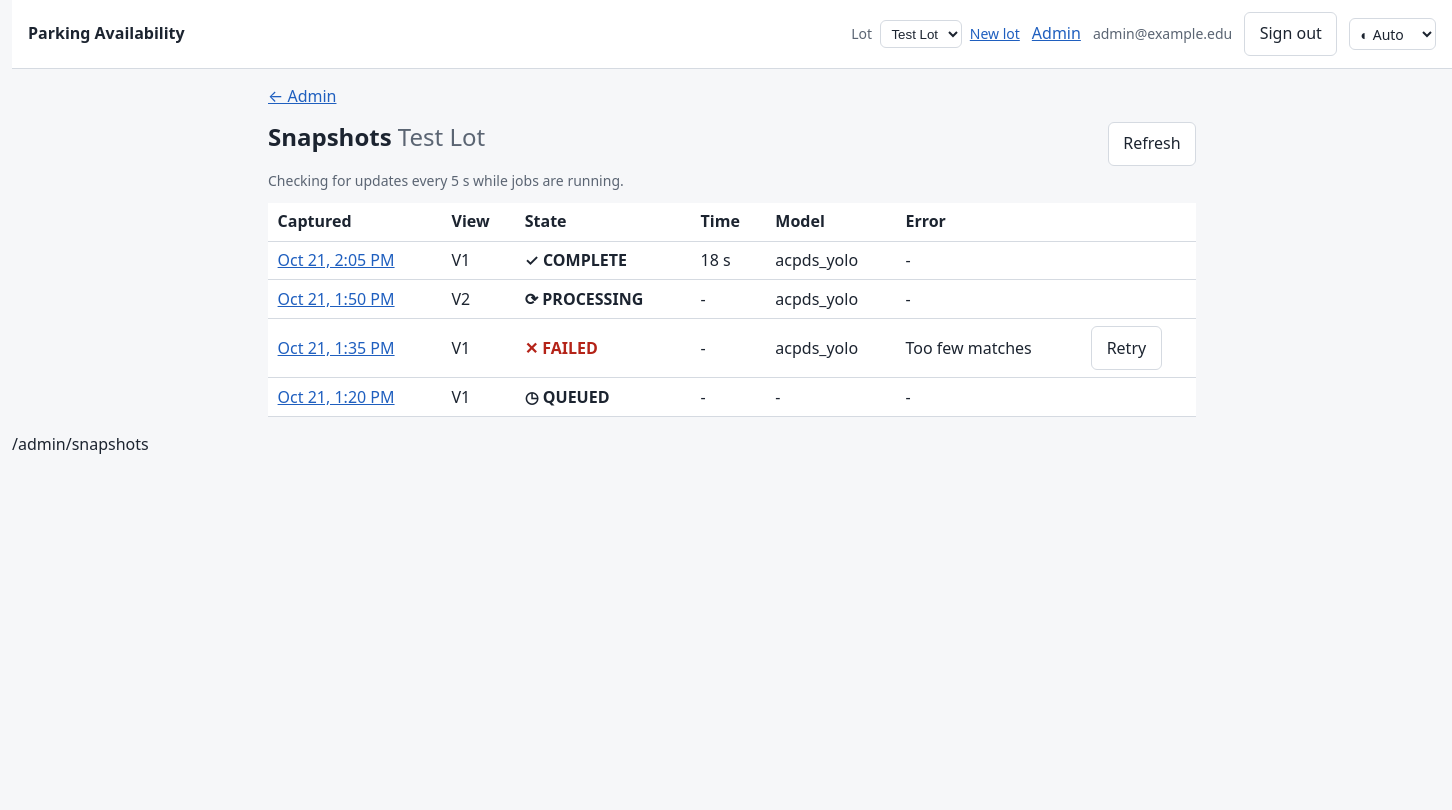
Test: Snapshots page (US-06) › US-06 #6: the detail shows per-space state, confidence, overlap and layout version
Click the row with test id "snapshot-img-1405": point(732, 261) [268,241,1196,280]
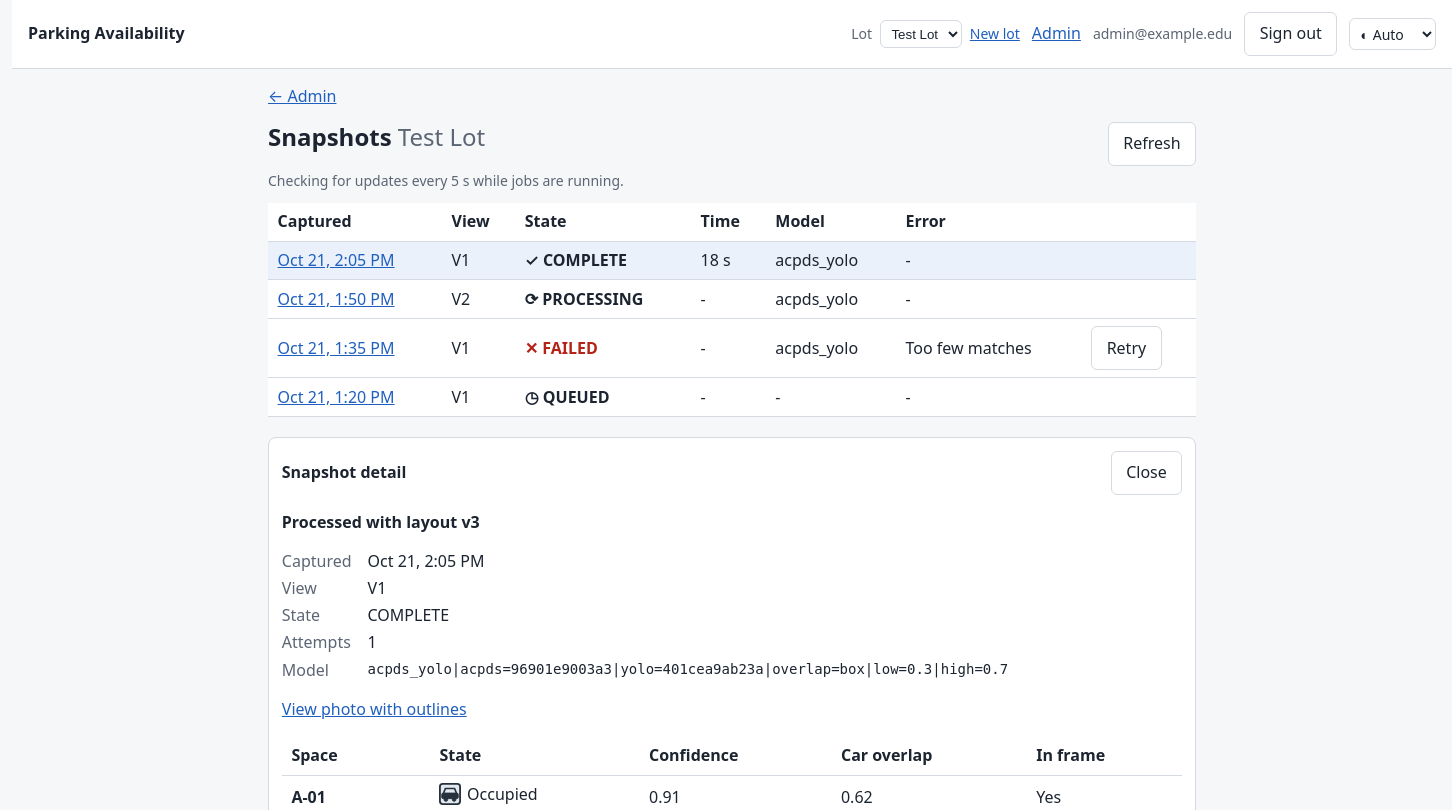
Result: the text "Processed with layout v3" is shown at [282,511,480,533]
Result: the text "acpds_yolo|acpds=96901e9003a3|yolo=401cea9ab23a|overlap=box|low=0.3|high=0.7" is shown at [368,661,1008,677]
Result: the column headings read "Space", "State", "Confidence", "Car overlap", "In frame", in this order at [282,737,430,775]; [430,737,639,775]; [639,737,831,775]; [831,737,1027,775]; [1027,737,1182,775]
Click the button "Close": point(1146, 473) [1111,451,1182,495]
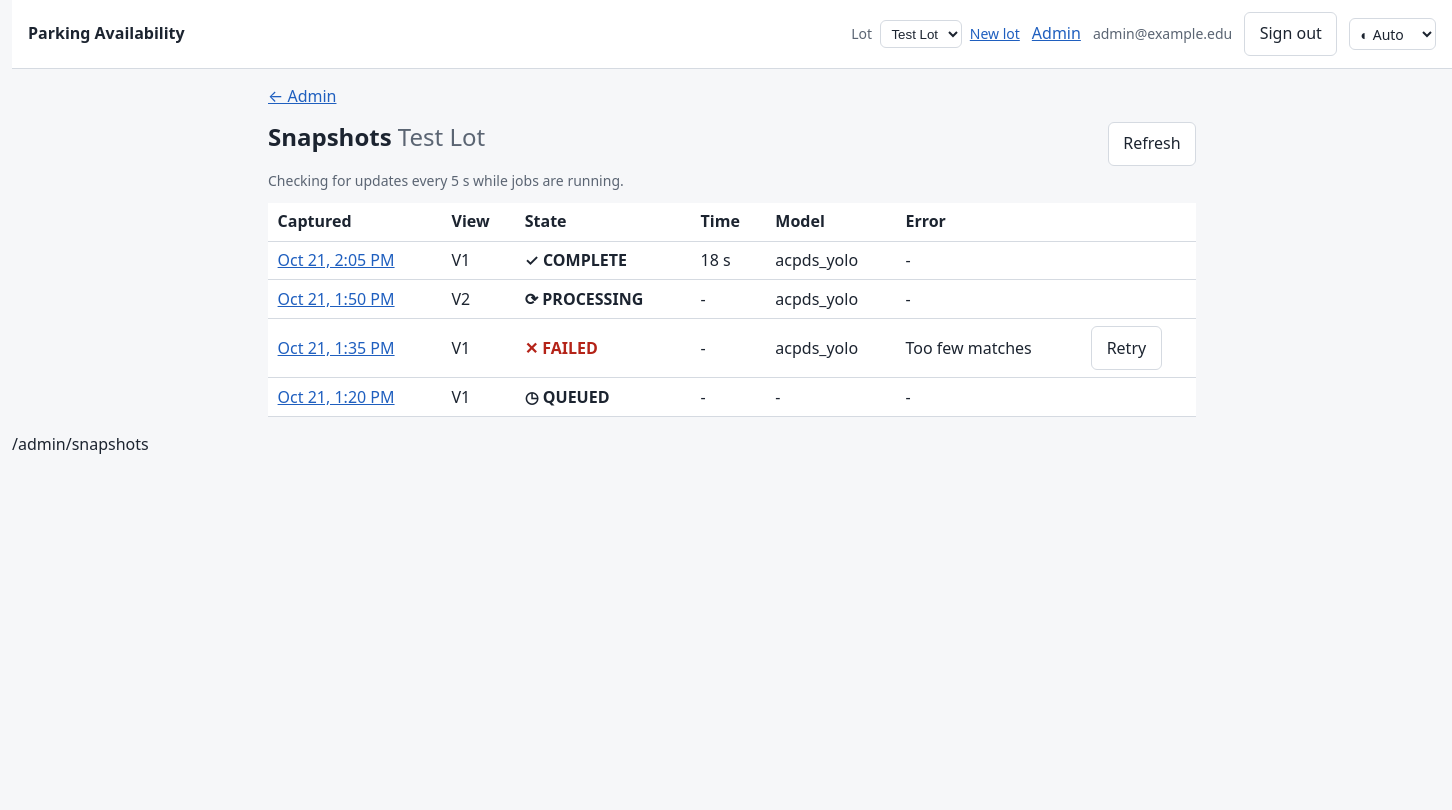
Result: the heading "Snapshot detail" is gone
